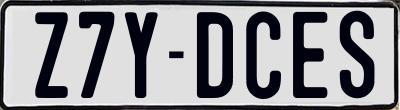7: (78, 9, 113, 97)
C: (243, 10, 281, 103)
D: (195, 11, 234, 103)
E: (292, 9, 328, 97)
S: (337, 8, 378, 100)
Y: (123, 9, 162, 99)
Z: (34, 10, 70, 100)
